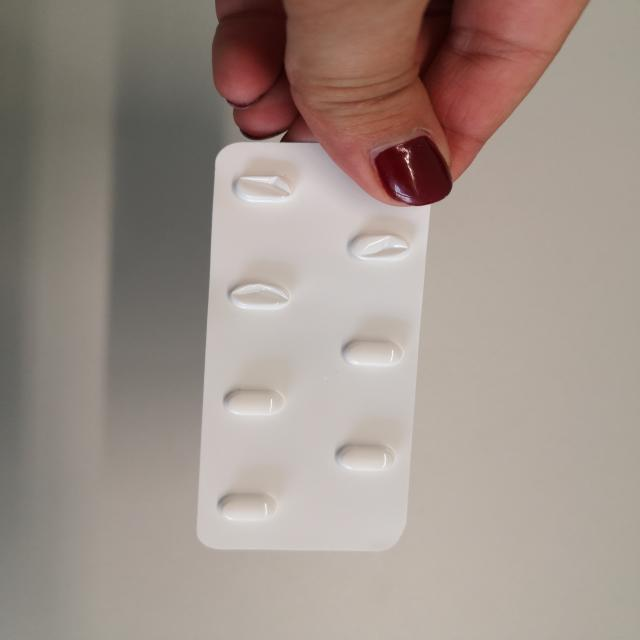Empty: (333, 225, 424, 272), (221, 166, 312, 210), (219, 274, 297, 321)
Pill: (318, 426, 404, 484), (207, 482, 290, 532), (331, 326, 411, 377), (213, 381, 297, 424)
